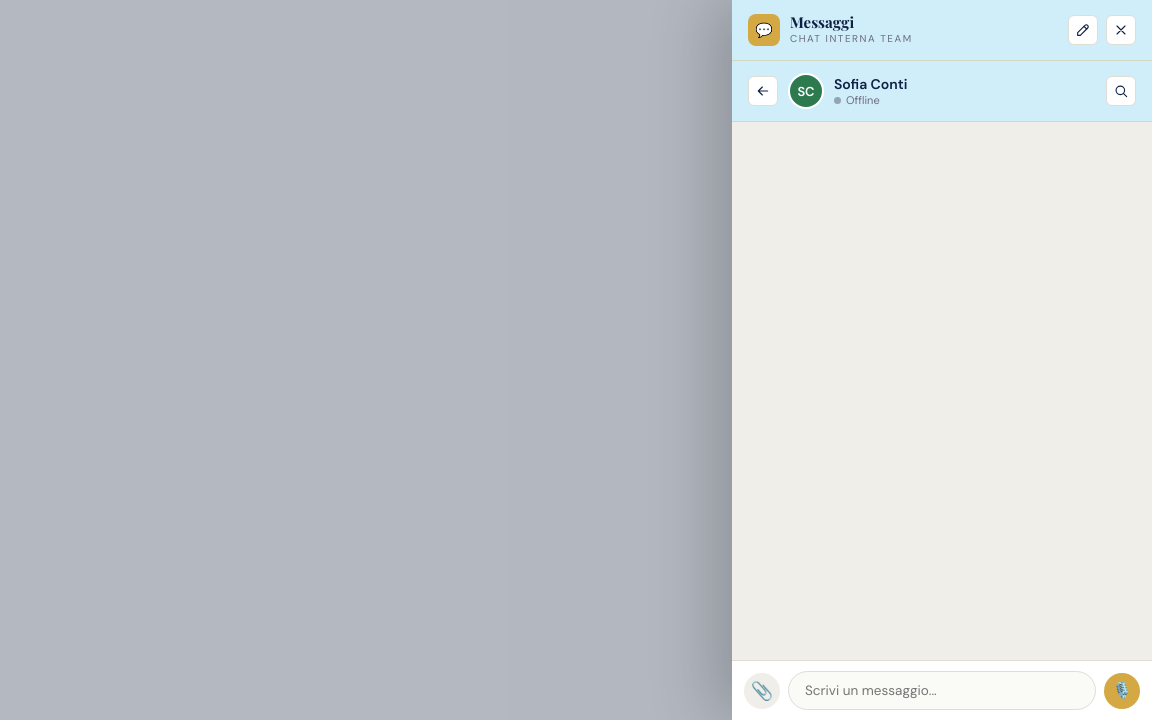
chat — un solo percorso di scrittura (ST-10) › inviare un messaggio funziona anche senza `commands` dal genitore
This screenshot has width=1152, height=720.
Type "ciao" into the field with placeholder "Scrivi un messaggio..." at (942, 690), box x1=788 y1=671 x2=1096 y2=710
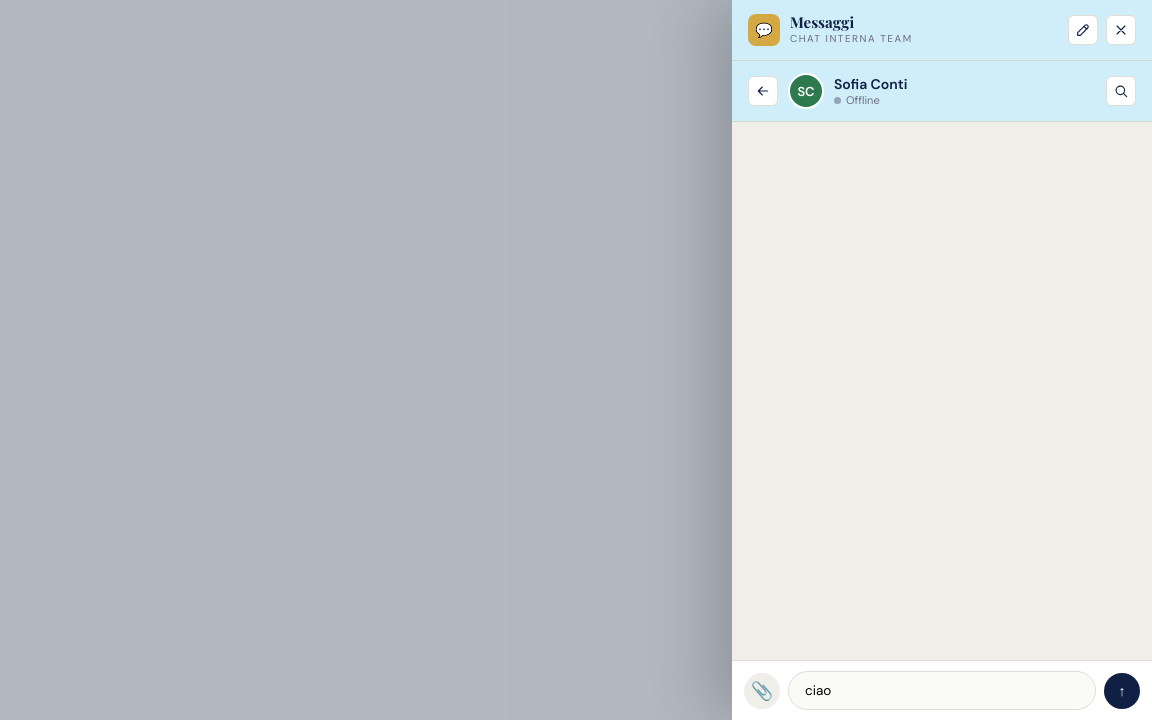
Press Enter in the field with placeholder "Scrivi un messaggio...", box x1=788 y1=671 x2=1096 y2=710
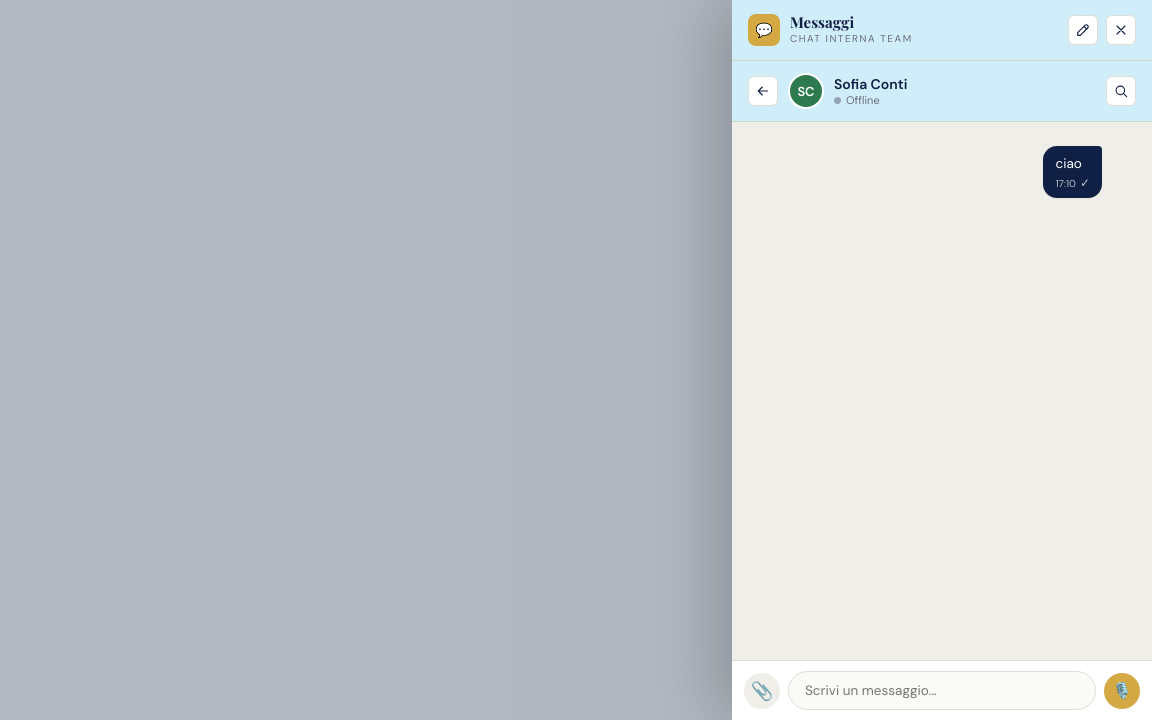
Expected: the text "ciao" is shown, x1=1056 y1=155 x2=1082 y2=172
